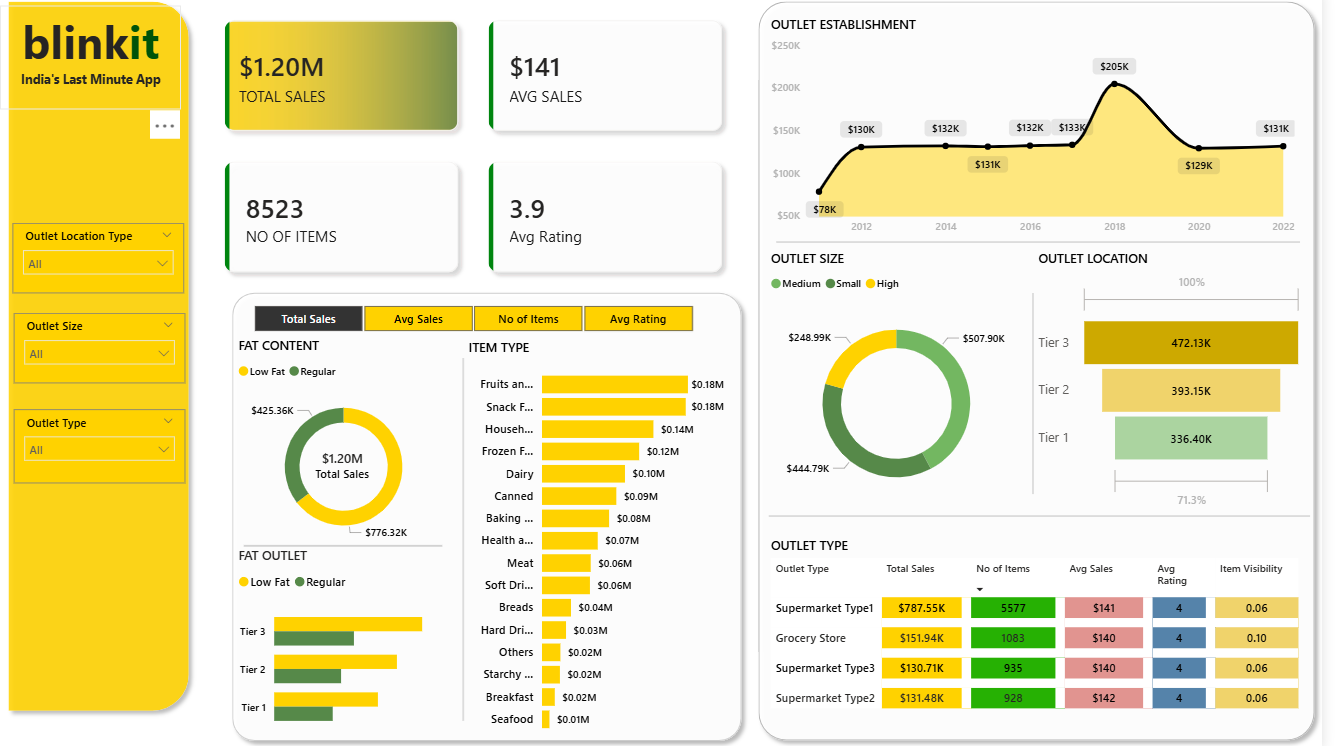

This screenshot's page, from the dashboard's own definition file:
{"tool":"powerbi","page":{"name":"Page 1","canvas":[1400,800],"ordinal":0},"visuals":[{"type":"shape","box":[12.3,13.6,204.5,749.8],"z":0},{"type":"textbox","box":[30,62.7,186.8,92.7],"z":1000},{"type":"textbox","box":[30,124.1,167.7,40.9],"z":2000},{"type":"cardVisual","fields":{"Data":["BlinkIT Grocery Data.Total Sales","BlinkIT Grocery Data.Avg sales","BlinkIT Grocery Data.No. of Items","BlinkIT Grocery Data.Avg Rating"]},"box":[230.4,13.6,569.9,269.9],"z":3000},{"type":"shape","box":[230.4,274,553.5,500.3],"z":4000},{"type":"donutChart","title":"FAT CONTENT ","fields":{"Y":["BlinkIT Grocery Data.Total Sales"],"Category":["BlinkIT Grocery Data.Item Fat Content"]},"box":[244,338.1,230.4,230.4],"z":5000},{"type":"slicer","fields":{"Values":["Metrics .Metrics "]},"box":[260.4,298.6,465,40],"z":6000},{"type":"cardVisual","fields":{"Data":["BlinkIT Grocery Data.Total Sales"]},"box":[321.7,437.6,103.6,72.3],"z":7000},{"type":"clusteredBarChart","title":"FAT BY OUTLET ","fields":{"Y":["BlinkIT Grocery Data.Total Sales"],"Category":["BlinkIT Grocery Data.Outlet Location Type"],"Series":["BlinkIT Grocery Data.Item Fat Content"]},"box":[249.5,568.5,220.9,205.9],"z":8000},{"type":"shape","box":[249.5,550.8,220.9,35.4],"z":9000},{"type":"shape","box":[1092,298.6,21.8,226.3],"z":10000},{"type":"barChart","title":"ITEM TYPE ","fields":{"Y":["BlinkIT Grocery Data.Total Sales"],"Category":["BlinkIT Grocery Data.Item Type"]},"box":[485.3,338.1,287.7,425.4],"z":11000},{"type":"shape","box":[800.3,28.6,582.1,741.7],"z":12000},{"type":"lineChart","title":"OUTLET ESTABLISHMENT ","fields":{"Y":["BlinkIT Grocery Data.Total Sales"],"Category":["BlinkIT Grocery Data.Outlet Establishment Year"]},"box":[815.3,47.7,552.2,234.5],"z":13000},{"type":"shape","box":[816.6,265.9,552.2,35.4],"z":14000},{"type":"donutChart","title":"OUTLET SIZE ","fields":{"Y":["BlinkIT Grocery Data.Total Sales"],"Category":["BlinkIT Grocery Data.Outlet Size"]},"box":[816.6,294.5,275,225],"z":15000},{"type":"funnel","title":"OUTLET LOCATION ","fields":{"Y":["Sum(BlinkIT Grocery Data.Sales)"],"Category":["BlinkIT Grocery Data.Outlet Location Type"]},"box":[1113.8,295.8,253.6,223.6],"z":16000},{"type":"shape","box":[440.4,328.6,66.8,434.9],"z":17000},{"type":"shape","box":[1070.2,301.3,66.8,208.6],"z":18000},{"type":"shape","box":[815.3,511.3,552.2,35.4],"z":19000},{"type":"pivotTable","title":"OUTLET TYPE ","fields":{"Values":["BlinkIT Grocery Data.Total Sales","BlinkIT Grocery Data.No. of Items","BlinkIT Grocery Data.Avg sales","BlinkIT Grocery Data.Avg Rating","Avg(BlinkIT Grocery Data.Item Visibility)"],"Rows":["BlinkIT Grocery Data.Outlet Type"]},"box":[815.3,546.7,550.8,189.5],"z":20000},{"type":"slicer","fields":{"Values":["BlinkIT Grocery Data.Outlet Location Type"]},"box":[30,291.8,167.7,75],"z":20001},{"type":"slicer","fields":{"Values":["BlinkIT Grocery Data.Outlet Size"]},"box":[30,379,167.7,75],"z":20002},{"type":"slicer","fields":{"Values":["BlinkIT Grocery Data.Item Type"]},"box":[30,471.7,167.7,75],"z":20003},{"type":"textbox","box":[62.7,249.5,102.3,34.1],"z":20004}]}

Visuals, with their boxes in screenshot pixels (x1, y1, x2, y2), scaled from the page's 1400x800 canvas onto the 1337x746 screenshot:
shape: 12/13/207/712
textbox: 29/58/207/145
textbox: 29/116/189/154
cardVisual - BlinkIT Grocery Data.Total Sales x BlinkIT Grocery Data.Avg sales: 220/13/764/264
shape: 220/256/749/722
"FAT CONTENT " donutChart: 233/315/453/530
slicer - Metrics .Metrics : 249/278/693/316
cardVisual - BlinkIT Grocery Data.Total Sales: 307/408/406/475
"FAT BY OUTLET " clusteredBarChart: 238/530/449/722
shape: 238/514/449/547
shape: 1043/278/1064/489
"ITEM TYPE " barChart: 463/315/738/712
shape: 764/27/1320/718
"OUTLET ESTABLISHMENT " lineChart: 779/44/1306/263
shape: 780/248/1307/281
"OUTLET SIZE " donutChart: 780/275/1042/484
"OUTLET LOCATION " funnel: 1064/276/1306/484
shape: 421/306/484/712
shape: 1022/281/1086/475
shape: 779/477/1306/510
"OUTLET TYPE " pivotTable: 779/510/1305/687
slicer - BlinkIT Grocery Data.Outlet Location Type: 29/272/189/342
slicer - BlinkIT Grocery Data.Outlet Size: 29/353/189/423
slicer - BlinkIT Grocery Data.Item Type: 29/440/189/510
textbox: 60/233/158/264
